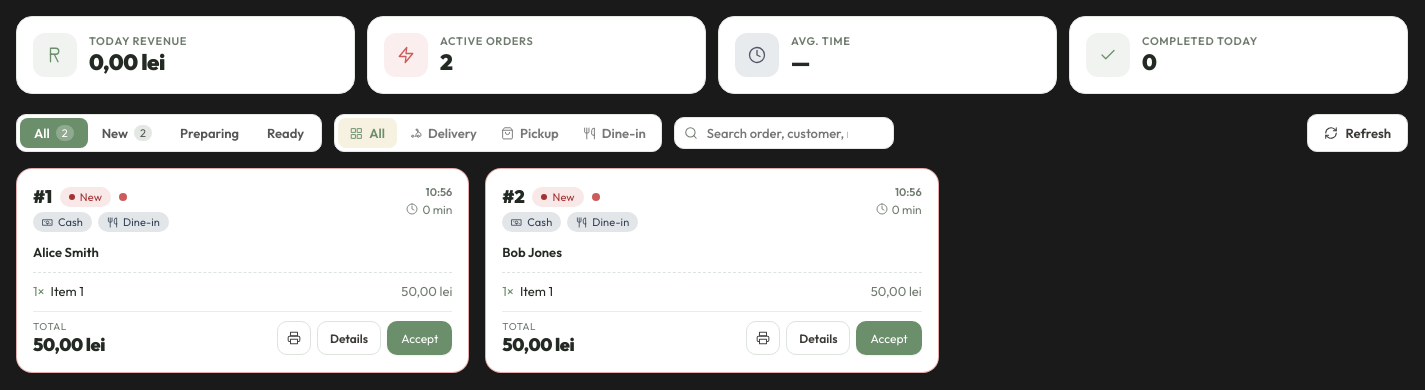
Test case: OrdersScreen › ORD-03: client-side search by order ID and customer name › search by customer name (case-insensitive) filters visible orders
Note: Type lowercase name — should still match (case-insensitive)
Type "alice" into the search field with placeholder "Search order, customer, number…". click: (784, 133)
box: x1=674 y1=117 x2=894 y2=149
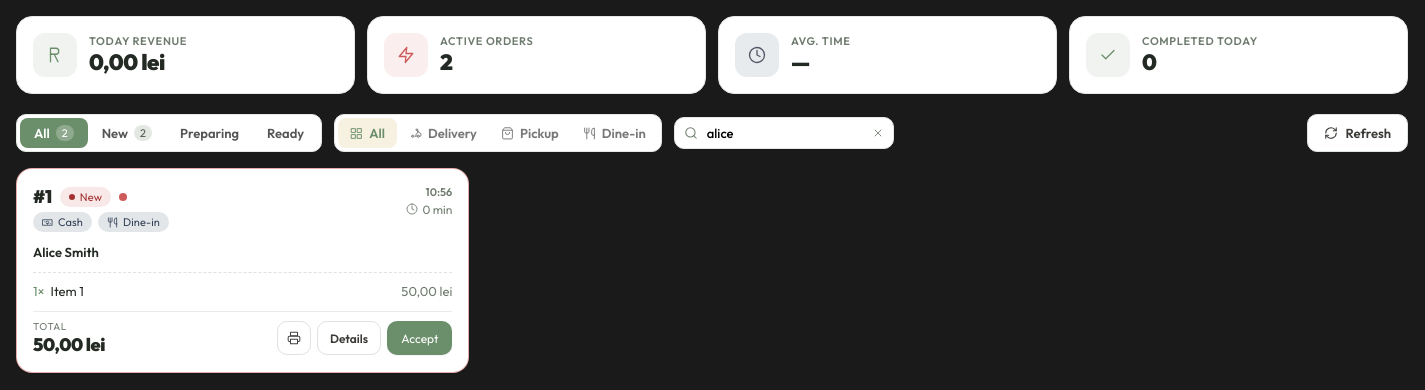
Expected: the text "Alice Smith" is shown, x1=33 y1=244 x2=99 y2=260
Result: the text "Bob Jones" is gone
